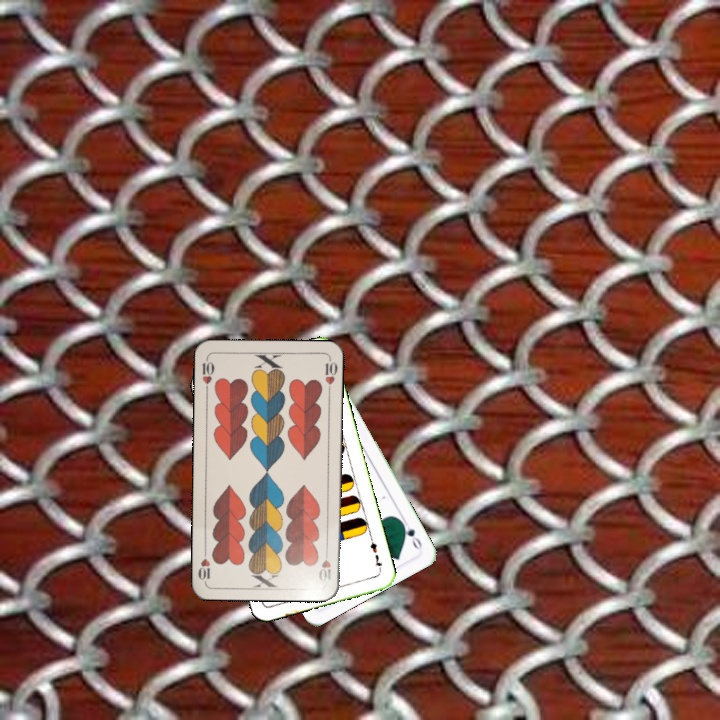E7: (366, 534, 385, 574)
GO: (396, 515, 425, 553)
H10: (198, 354, 217, 395), (316, 544, 333, 585)
